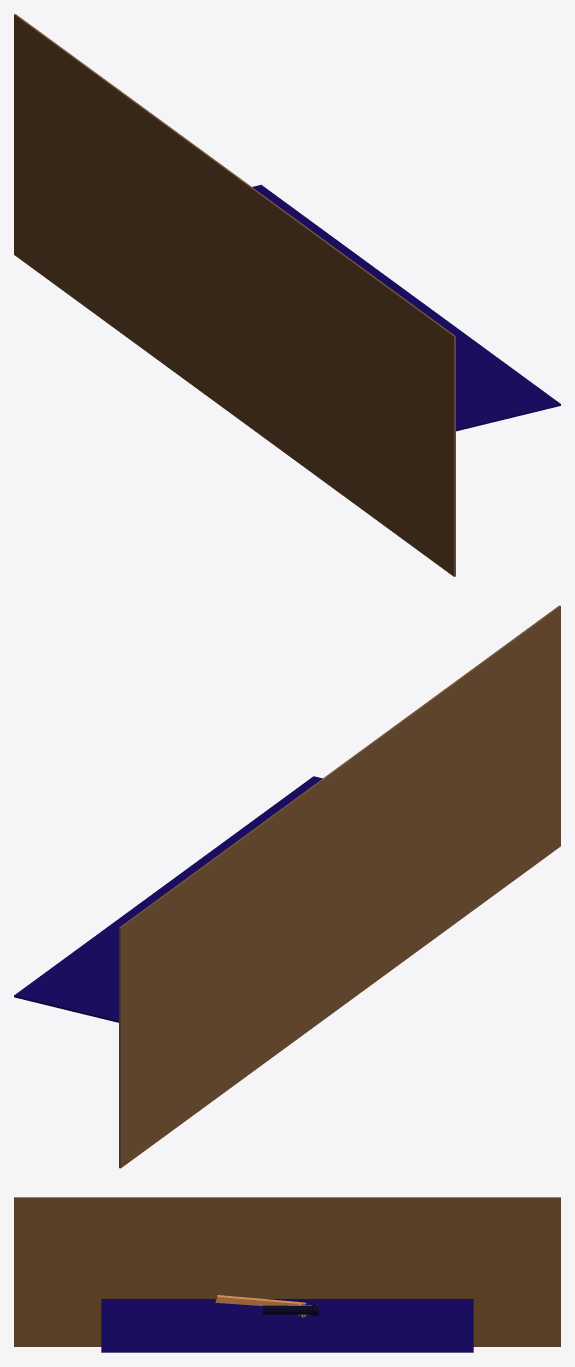
Rendered from flashlight in hand.fbx.
The picture shows the model from 3 angles, top to bottom: view 1: azimuth 30°, elevation 25°; view 2: azimuth 150°, elevation 25°; view 3: azimuth 270°, elevation 25°; orthographic projection. The views are drawn at different scales.
Parts seen in each view (by area): view 1: Cube, Cube.001; view 2: Cube, Cube.001; view 3: Cube, Cube.001, Cube.002, Cylinder.
Boxes of the visible parts, x1,y1,x2,y2 form: Cube: (14, 14, 455, 576); Cube.001: (252, 184, 560, 431); Cube: (119, 605, 560, 1168); Cube.001: (14, 776, 322, 1022); Cube: (14, 1197, 560, 1346); Cube.001: (101, 1299, 473, 1352); Cube.002: (215, 1295, 306, 1317); Cylinder: (263, 1304, 318, 1315).
Size of the model in its own units: 3360 by 4358 by 14465.
